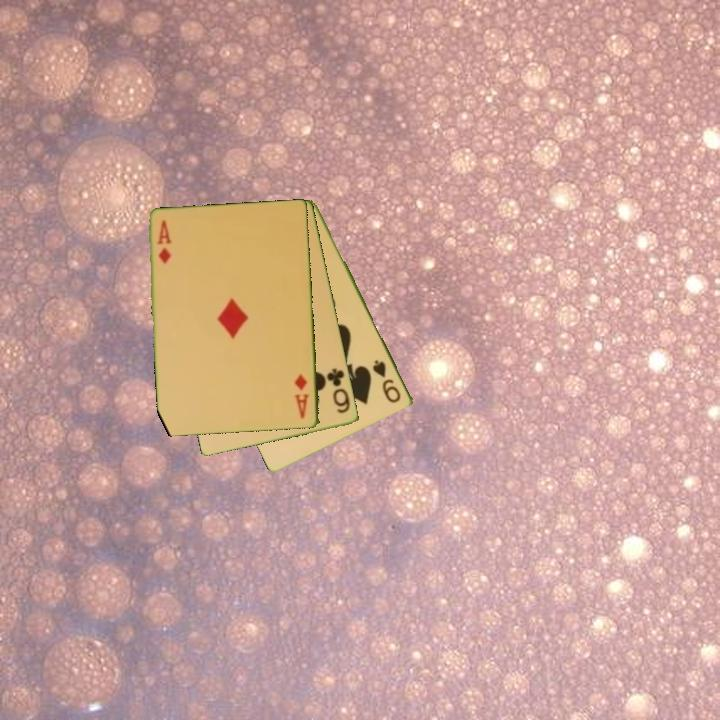6c: (324, 364, 353, 416)
9s: (369, 356, 404, 406)
Ad: (291, 371, 312, 421), (154, 217, 174, 267)
